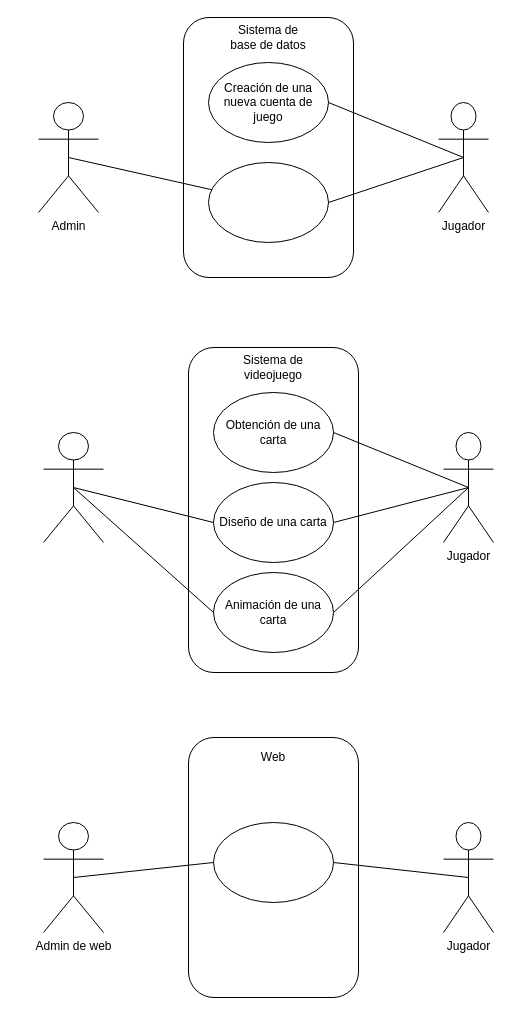
This 511x1015 diagram has some shape labels left out. The centre of each missing label's shape, as x and y in pixels:
"Admin de videojuego" belongs at (x=73, y=487).
"Almacenamiento de información" belongs at (x=268, y=202).
"Mostrar estadisticas" belongs at (x=273, y=862).
